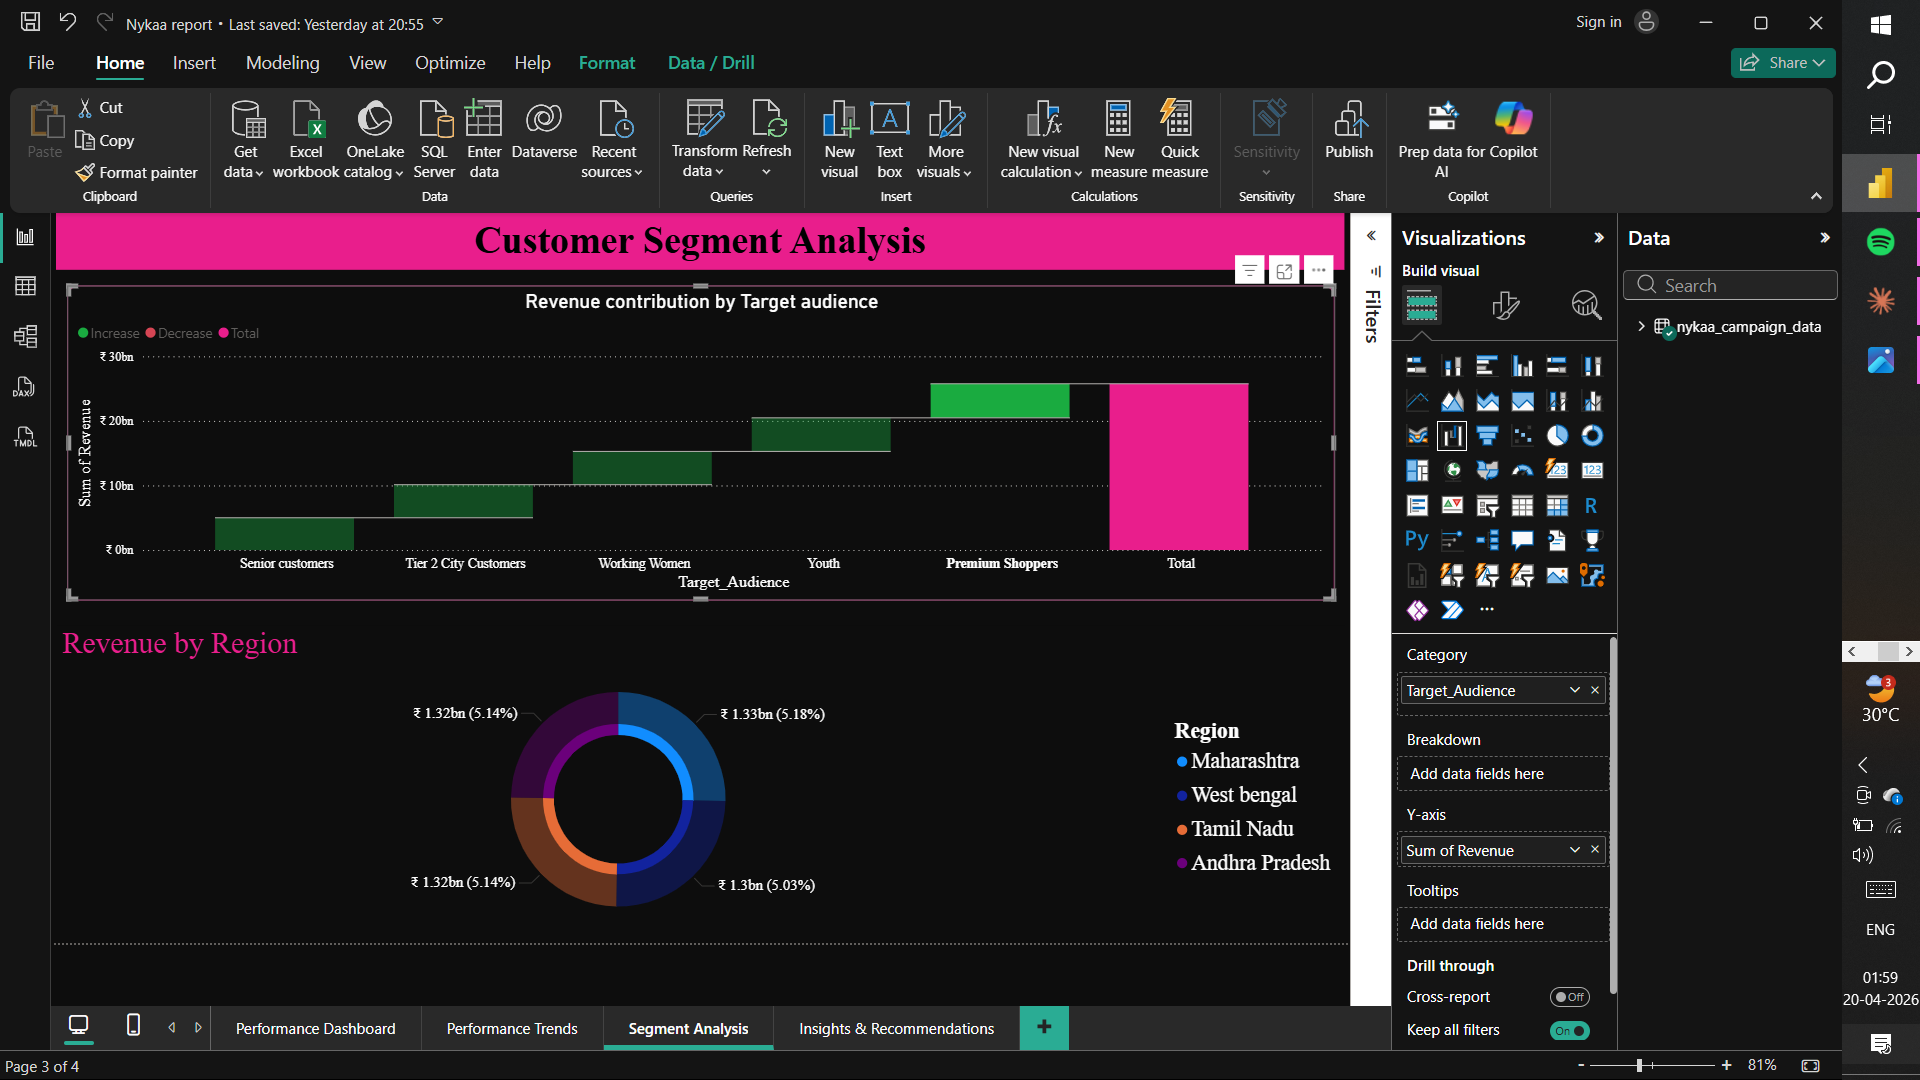

This screenshot's page, from the dashboard's own definition file:
{"tool":"powerbi","page":{"name":"Segment Analysis","canvas":[1280,720],"ordinal":2},"visuals":[{"type":"textbox","box":[5.3,0,1269.4,55.8],"z":0},{"type":"waterfallChart","title":"Revenue contribution by Target audience","fields":{"Category":["nykaa_campaign_data.Target_Audience"],"Y":["Sum(nykaa_campaign_data.Revenue)"]},"box":[16,71.4,1249,310.4],"z":1000},{"type":"donutChart","title":"Revenue by Region","fields":{"Category":["nykaa_campaign_data.Region"],"Y":["Sum(nykaa_campaign_data.Revenue)"]},"box":[6,406,1269,310],"z":2000}]}

Visuals, with their boxes on the page's 1280x720 design canvas (x1, y1, x2, y2). These are canvas units, not pixel positions in the 1920x1080 screenshot, which may show the page scaled, cropped or inside an application window:
textbox: l=5, t=0, r=1275, b=56
"Revenue contribution by Target audience" waterfallChart: l=16, t=71, r=1265, b=382
"Revenue by Region" donutChart: l=6, t=406, r=1275, b=716
